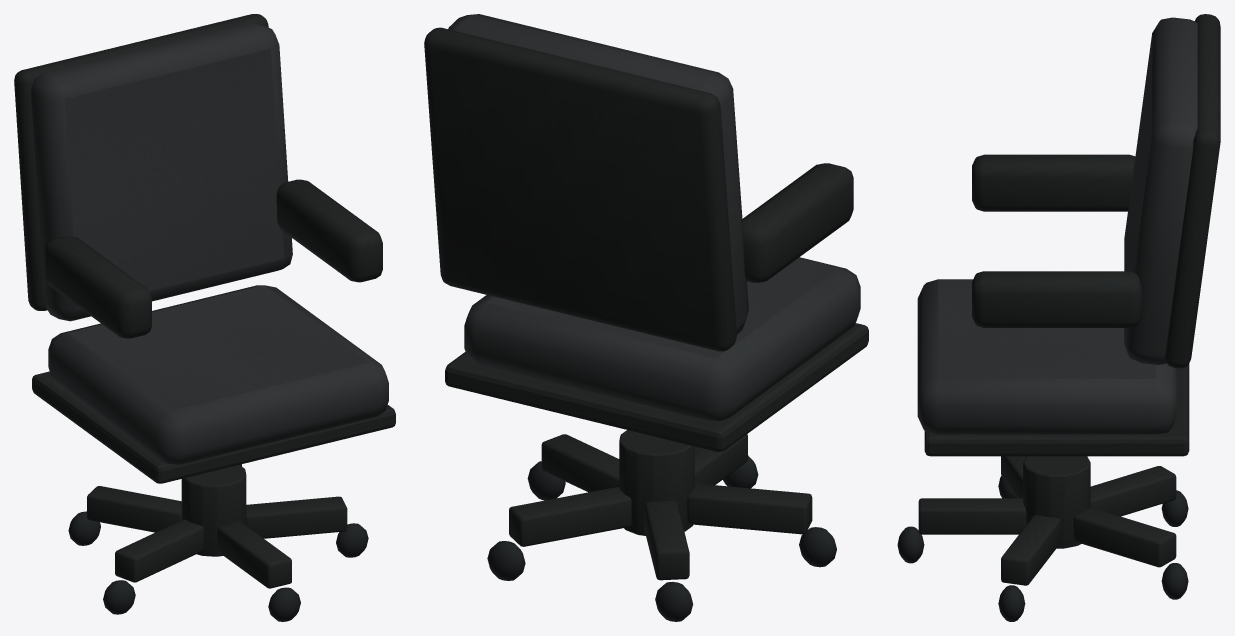
The model's file is chair_basic_lod2.glb.
3 renders of one model, left to right at view 1: azimuth 30°, elevation 25°; view 2: azimuth 150°, elevation 25°; view 3: azimuth 270°, elevation 25°, orthographic. The views are drawn at different scales.
Visible parts, largest first — view 1: OfficeLeather_LOD2, OfficePlastic_LOD2, OfficeCasterRubberSet_LOD2; view 2: OfficePlastic_LOD2, OfficeLeather_LOD2, OfficeCasterRubberSet_LOD2; view 3: OfficePlastic_LOD2, OfficeLeather_LOD2, OfficeCasterRubberSet_LOD2.
Part boxes in pixels (x1=…): OfficeLeather_LOD2: x1=31, y1=22, x2=388, y2=464; OfficePlastic_LOD2: x1=14, y1=14, x2=395, y2=588; OfficeCasterRubberSet_LOD2: x1=68, y1=511, x2=368, y2=621; OfficePlastic_LOD2: x1=424, y1=27, x2=868, y2=580; OfficeLeather_LOD2: x1=448, y1=14, x2=860, y2=420; OfficeCasterRubberSet_LOD2: x1=487, y1=455, x2=836, y2=621; OfficePlastic_LOD2: x1=918, y1=14, x2=1220, y2=585; OfficeLeather_LOD2: x1=917, y1=17, x2=1197, y2=434; OfficeCasterRubberSet_LOD2: x1=897, y1=476, x2=1188, y2=621.
Bounding box in the file's own units: 0.585 × 1.01 × 0.5984.
Materials: 3 (2 with a texture image).
